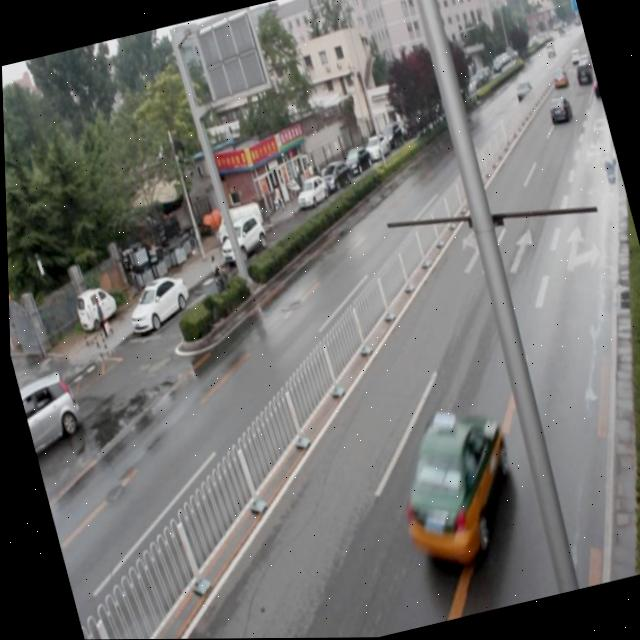car: (377, 394, 526, 573)
